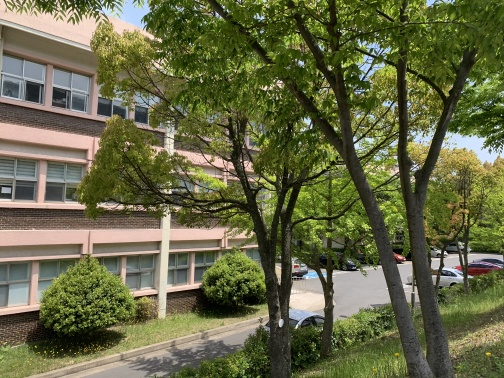College Of Education: (3, 1, 281, 370)
